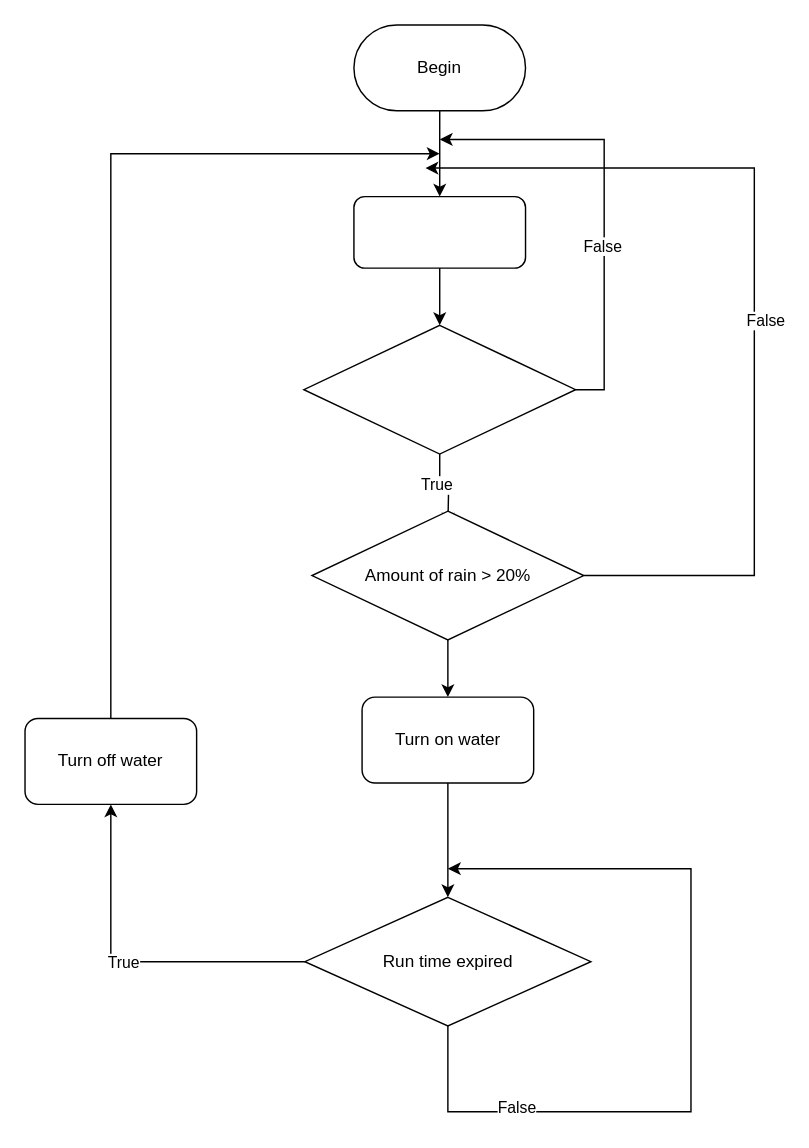
This 809x1148 diagram has some shape labels left out. The centre of each missing label's shape, as x and y in pixels:
Chance of rain > 80%: the point at 439,389
Read Sensor: the point at 439,231
